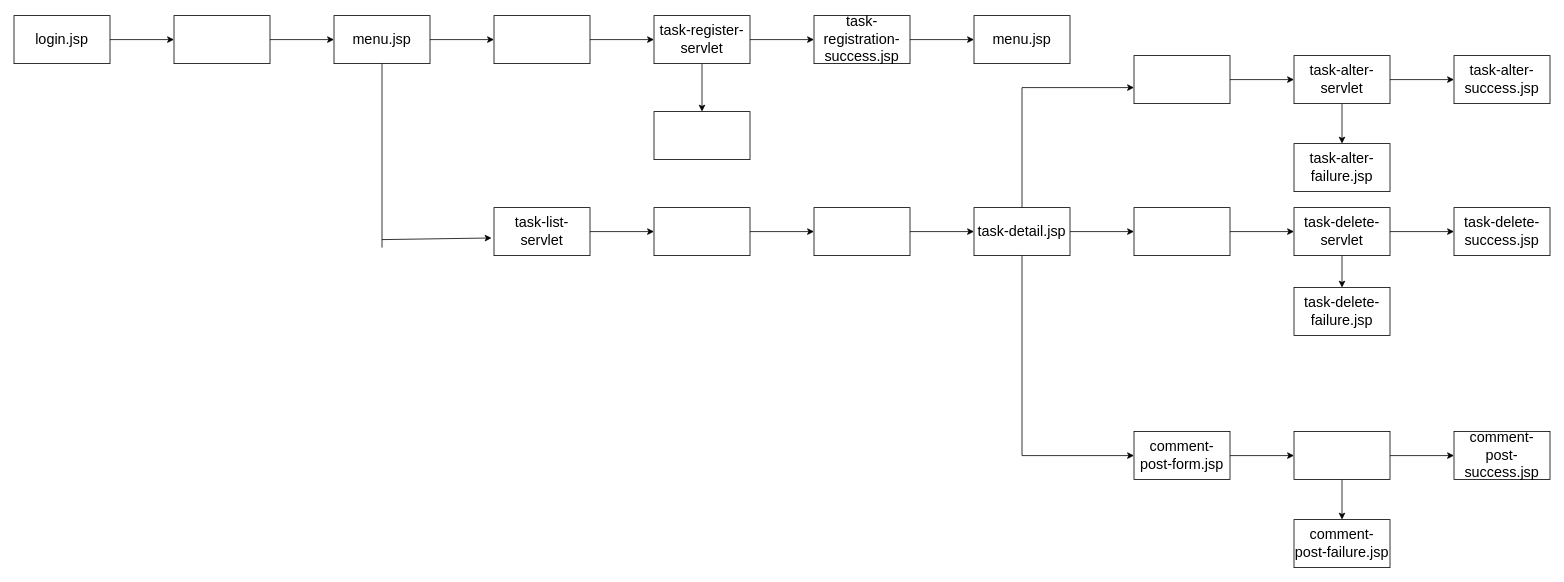
This 1564x582 diagram has some shape labels left out. Here are the shapes that lost their labels. From the top down, the box of each, then its label:
(173, 15, 270, 64): login-servlet
(493, 15, 590, 64): task-registration.jsp
(1133, 55, 1230, 104): task-alter-form.jsp
(653, 111, 750, 160): task-registration-failure.jsp
(653, 207, 750, 256): task-list.jsp
(813, 207, 910, 256): task-detail-servlet
(1133, 207, 1230, 256): task-delete-confirm.jsp
(1293, 431, 1390, 480): comment-add-servlet
